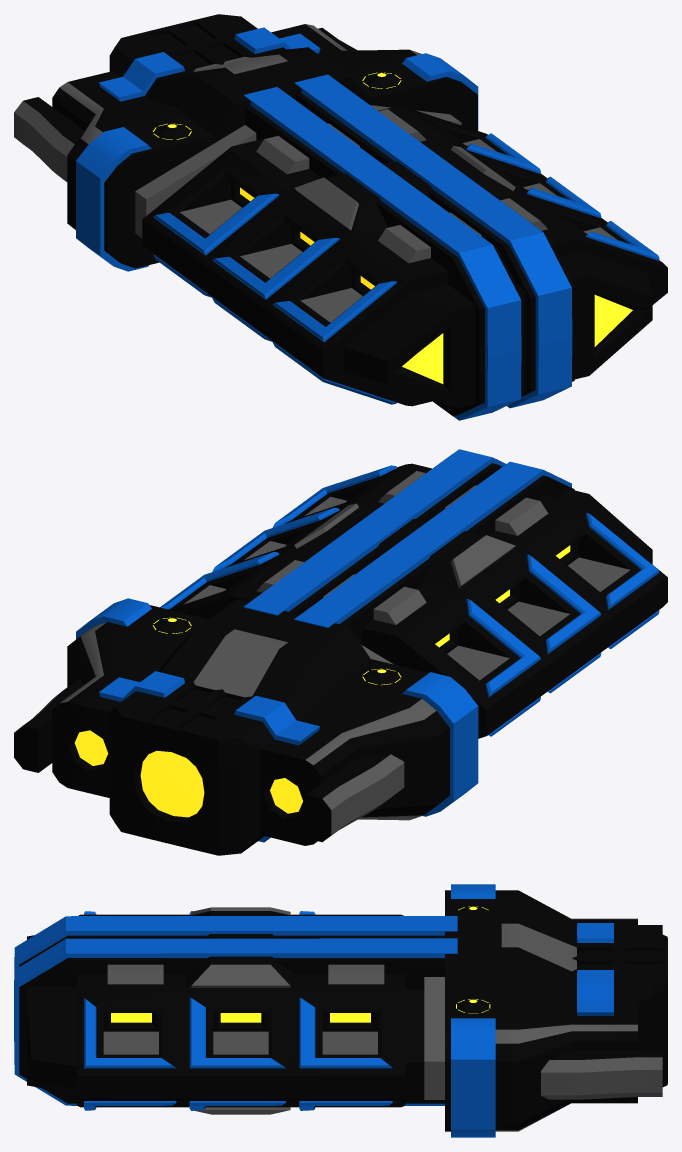
The model's file is 01_ship_heavy_noledar.glb.
The picture shows the model from 3 angles, top to bottom: view 1: azimuth 30°, elevation 25°; view 2: azimuth 150°, elevation 25°; view 3: azimuth 270°, elevation 25°; orthographic projection. The views are drawn at different scales.
Parts seen in each view (by area): view 1: 01_ship_heavy_noledar; view 2: 01_ship_heavy_noledar; view 3: 01_ship_heavy_noledar.
Boxes of the visible parts, x1,y1,x2,y2 form: 01_ship_heavy_noledar: [14, 14, 667, 420]; 01_ship_heavy_noledar: [14, 449, 667, 855]; 01_ship_heavy_noledar: [14, 884, 667, 1137].
Size of the model in its own units: 0.5981 by 0.2544 by 0.9876.
